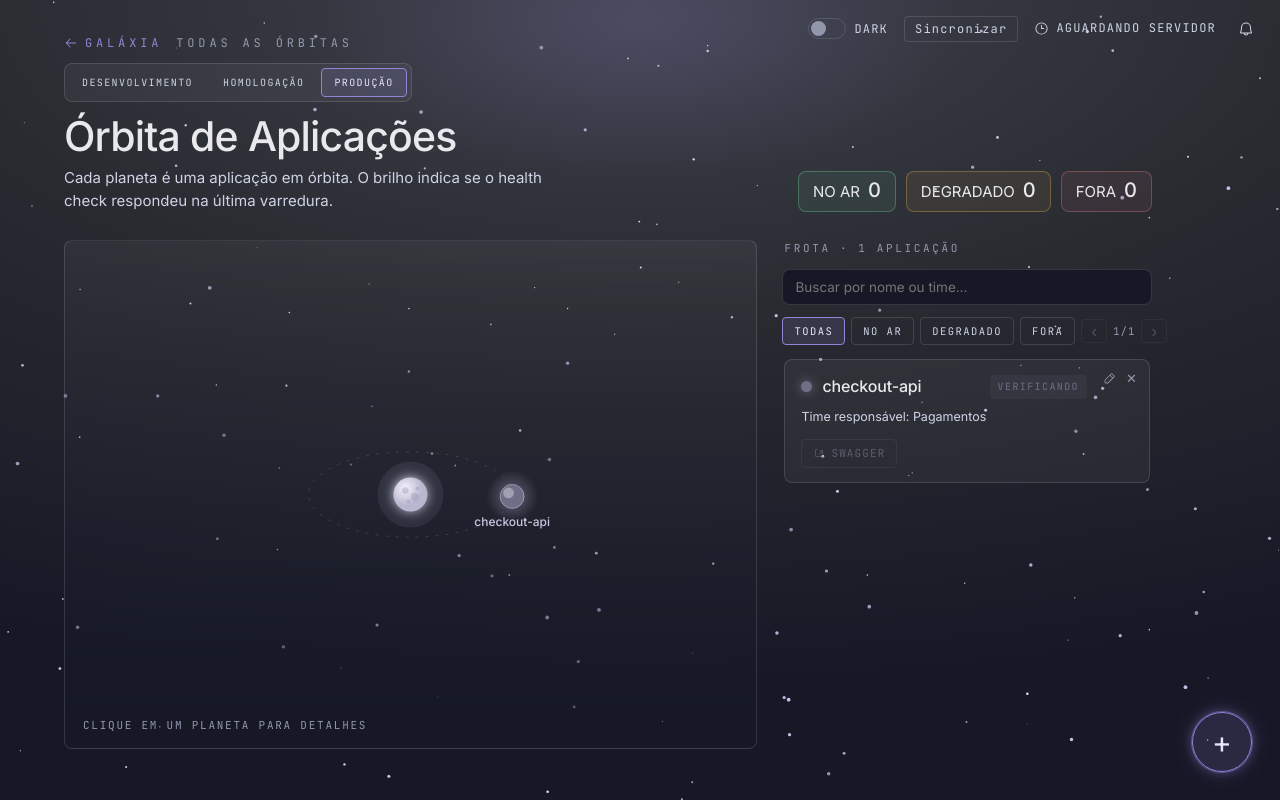
it: PanelPage › o botão + abre o formulário de cadastro
Step 1. Click the button named "Adicionar aplicação" → click(1222, 742), box [1192, 712, 1252, 772]
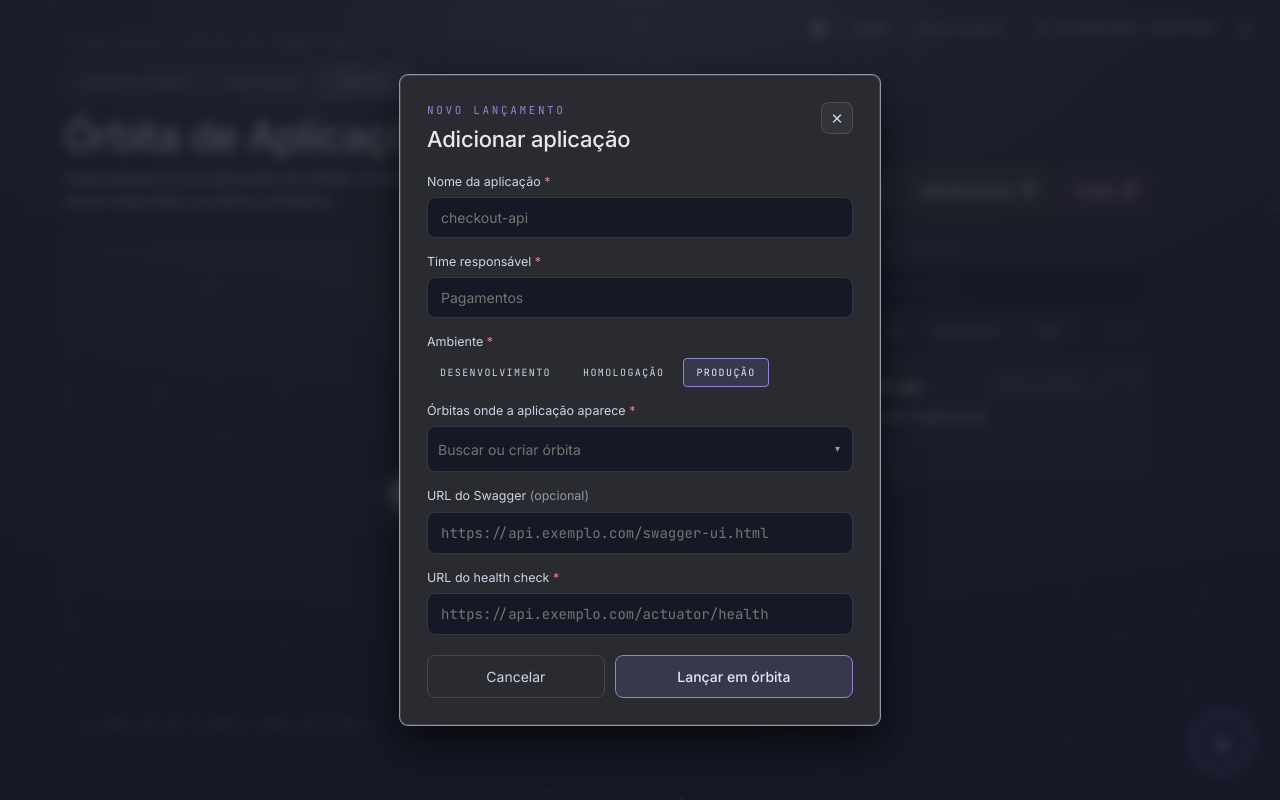
Expected: the dialog is shown, [400, 75, 880, 725]
